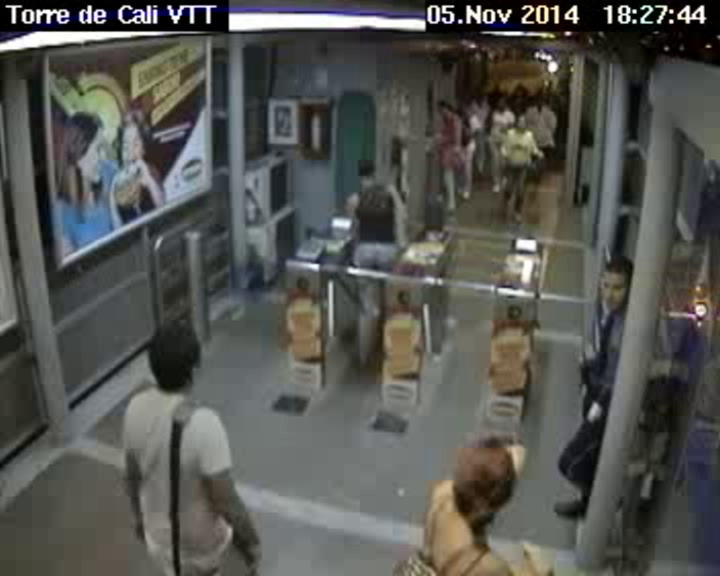person: (439, 428, 532, 522), (147, 313, 203, 393), (597, 254, 639, 319), (354, 158, 384, 191), (493, 92, 508, 114), (457, 96, 475, 114), (516, 114, 529, 133), (433, 101, 448, 117), (533, 90, 545, 107)
